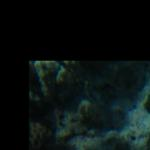dead: (27, 60, 149, 148)
